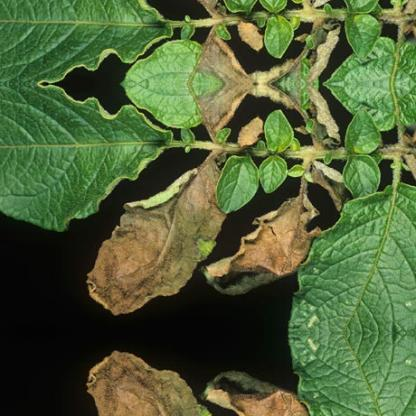Late-Blight: (82, 151, 328, 317), (82, 348, 328, 416)
